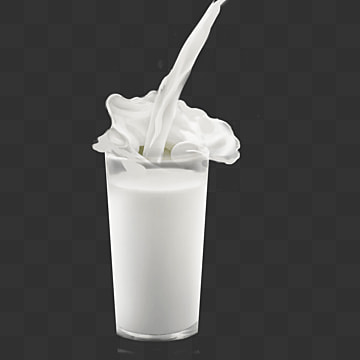produk_susu: (115, 158, 195, 337)
